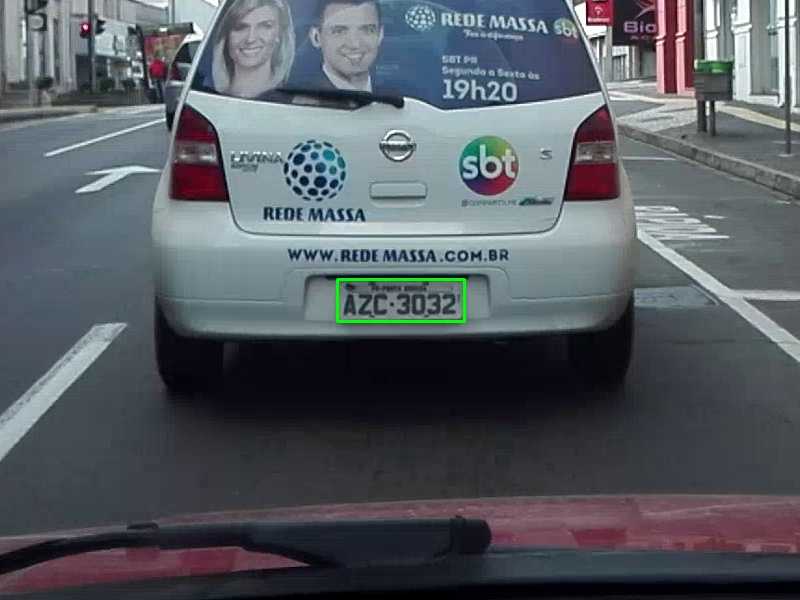placa: (337, 279, 464, 321)
